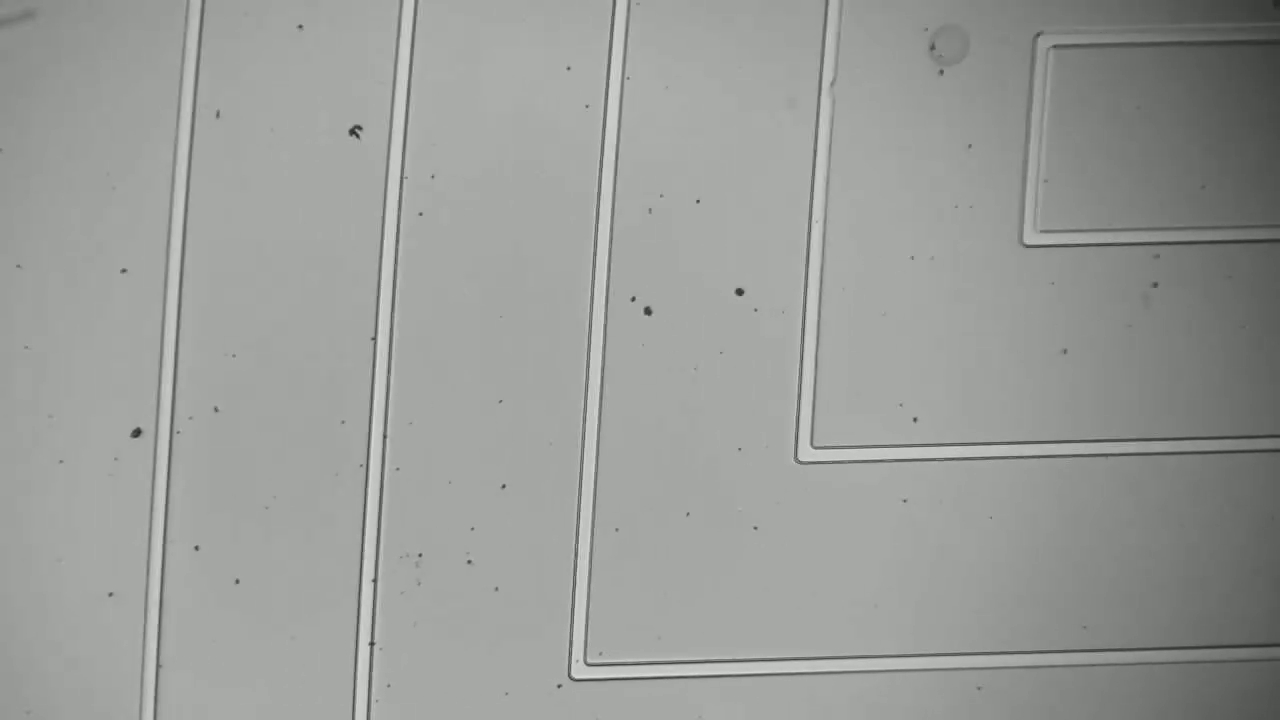edge_bite: (812, 67, 843, 106)
